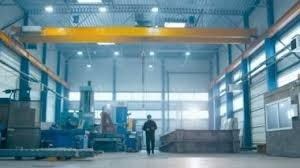person without safety: (139, 111, 160, 157)
